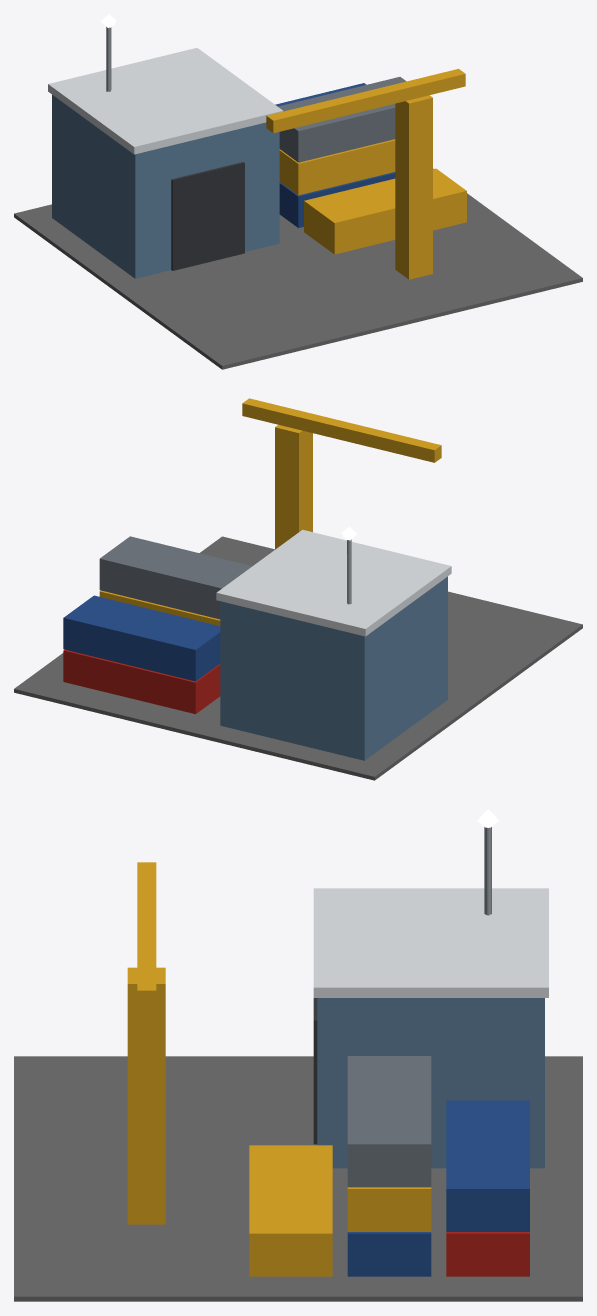
Rendered from bld_special_logistics_depot_a10_lod2.glb.
3 views of the same model, one above another, from view 1: azimuth 30°, elevation 25°; view 2: azimuth 150°, elevation 25°; view 3: azimuth 270°, elevation 25° (orthographic). The views are drawn at different scales.
Parts seen in each view (by area): view 1: body, crane; view 2: body, crane; view 3: body, crane.
Boxes of the visible parts, left/top/right/bottom form: body: left=14, top=14, right=582, bottom=369; crane: left=266, top=68, right=465, bottom=279; body: left=14, top=527, right=582, bottom=780; crane: left=242, top=398, right=441, bottom=549; body: left=14, top=809, right=582, bottom=1301; crane: left=127, top=862, right=165, bottom=1224.
Bounding box in the file's own units: 15 × 8.5 × 15.
